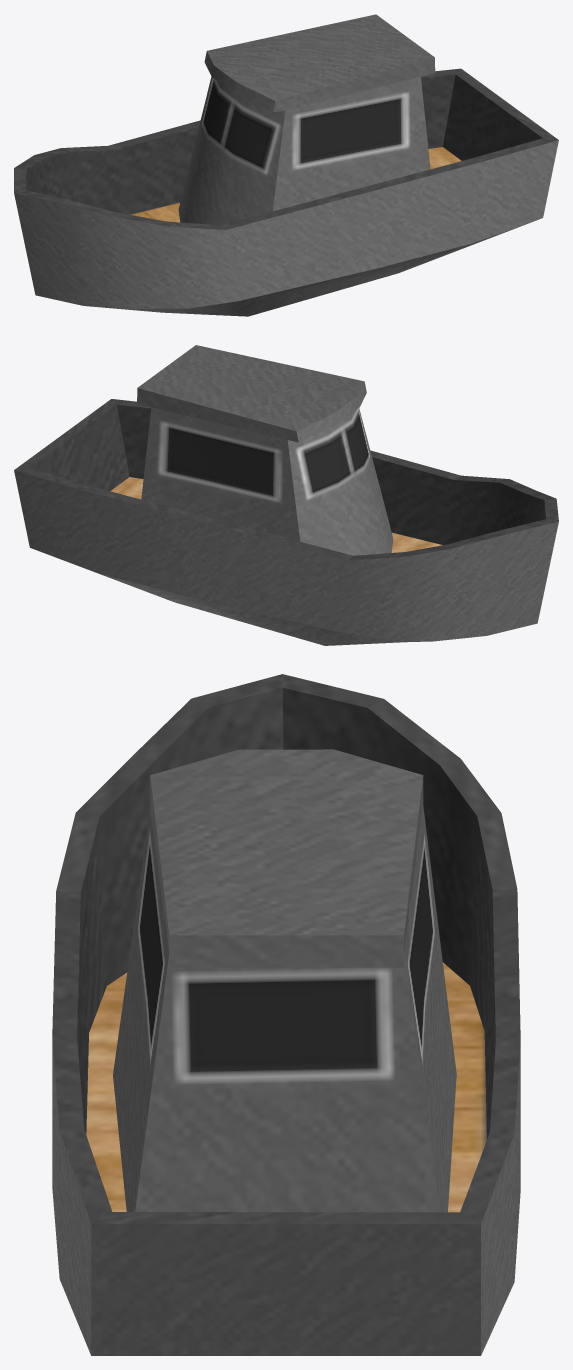
The model's file is kater.FBX.
3 renders of one model, top to bottom at view 1: azimuth 30°, elevation 25°; view 2: azimuth 150°, elevation 25°; view 3: azimuth 270°, elevation 25°, orthographic. The views are drawn at different scales.
Visible parts, largest first — view 1: kater; view 2: kater; view 3: kater.
Boxes of the visible parts, left/top/right/bottom form: kater: left=14, top=14, right=558, bottom=316; kater: left=14, top=345, right=558, bottom=645; kater: left=52, top=674, right=520, bottom=1355.
Bounding box in the file's own units: 821 × 324 × 336.
